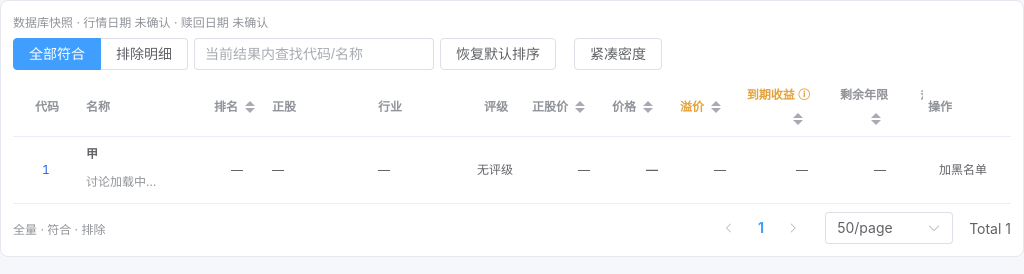
Test case: persists density only and ignores legacy column preferences
The width and height of the screenshot is (1024, 274).
expect the element with class "density-comfortable" is shown: met, box [13,78,1011,204]
Click the button "紧凑密度" at (618, 54), box [574,38,662,70]
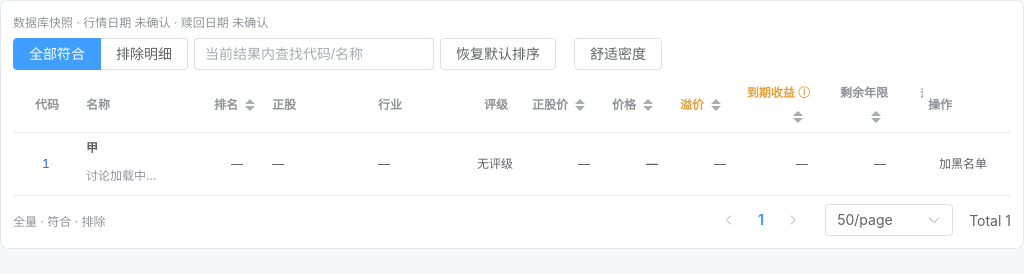
expect the element with class "density-compact" is shown: met, box [13,78,1011,196]
